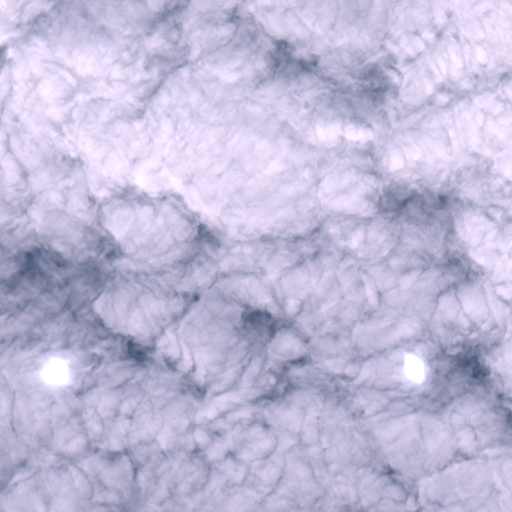Iceberg: (40, 357, 69, 384), (404, 354, 425, 382)
